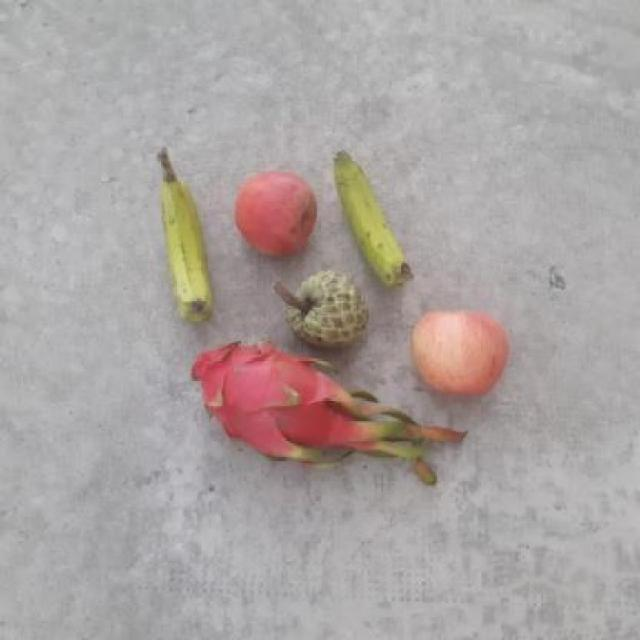apple: (408, 306, 507, 403), (229, 167, 322, 258)
banana: (326, 142, 416, 292), (152, 173, 220, 312)
dragon fruit: (189, 341, 349, 465)
sugar apple: (280, 268, 372, 350)
